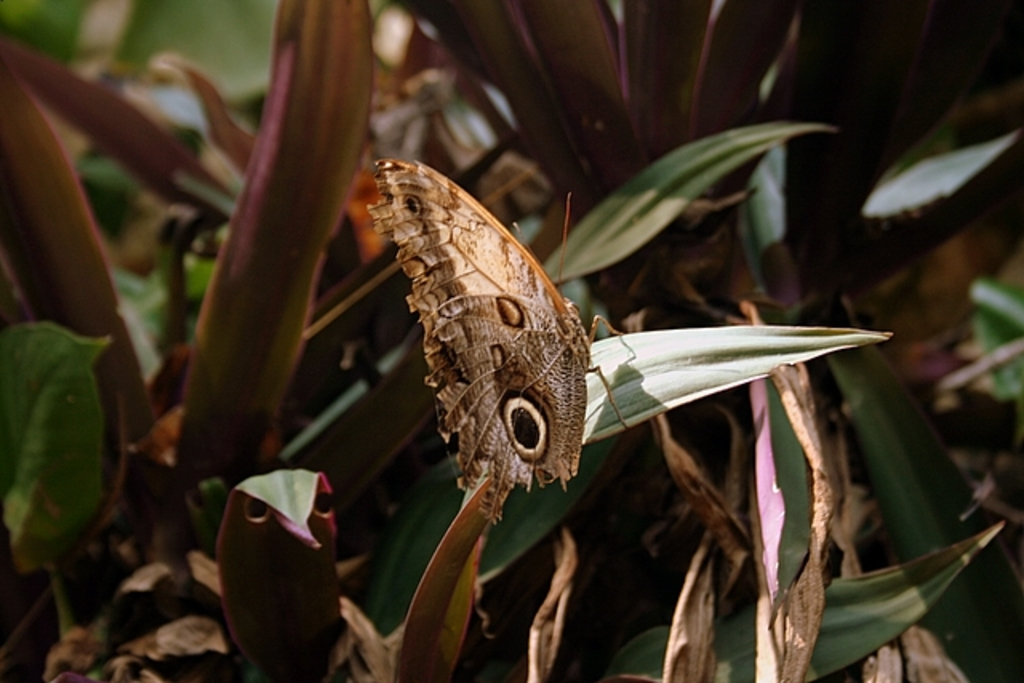Butterfly: (349, 147, 626, 499)
